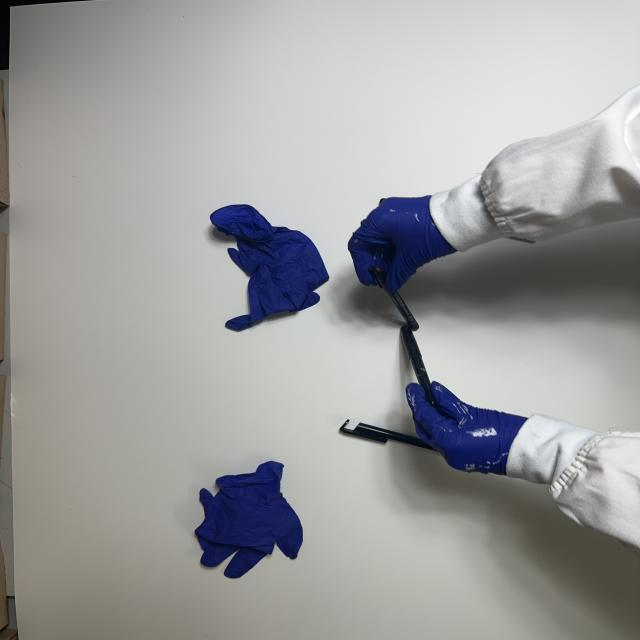gloves_contaminated: (406, 381, 527, 475), (348, 196, 456, 292)
